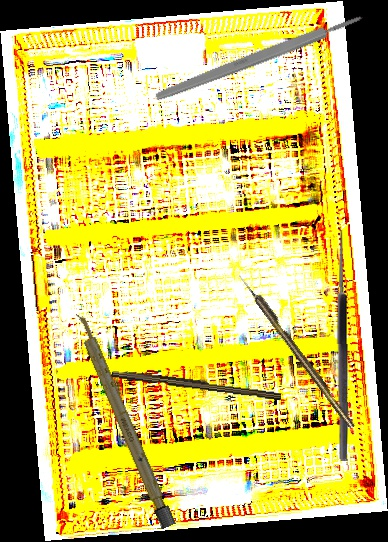Hook Surgical: (237, 271, 356, 431), (323, 227, 351, 462)
Scalpel Handle: (72, 311, 176, 530), (153, 11, 365, 104), (110, 367, 283, 401)
